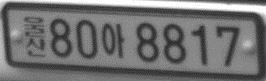0: (75, 18, 97, 58)
1: (191, 23, 208, 67)
7: (215, 25, 240, 67)
8: (48, 17, 72, 57), (162, 23, 186, 63), (135, 22, 159, 61)
아: (101, 22, 125, 59)
울산_V: (22, 15, 48, 58)
